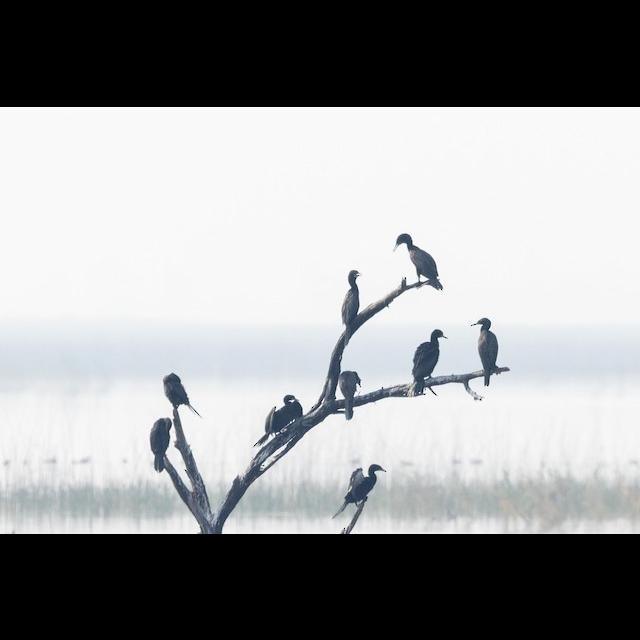cormorant: (391, 232, 451, 290), (333, 463, 395, 519), (250, 390, 304, 448), (466, 314, 504, 384), (412, 324, 448, 394), (338, 265, 372, 333), (162, 371, 208, 415)
